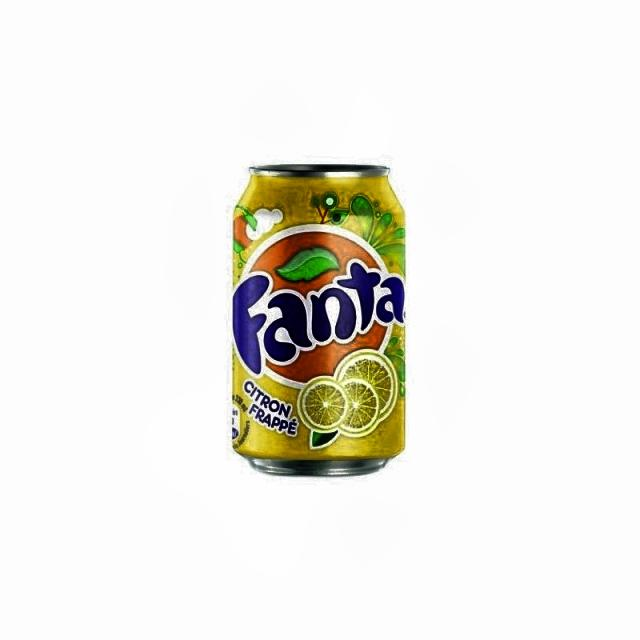Cans: (232, 166, 405, 478)
